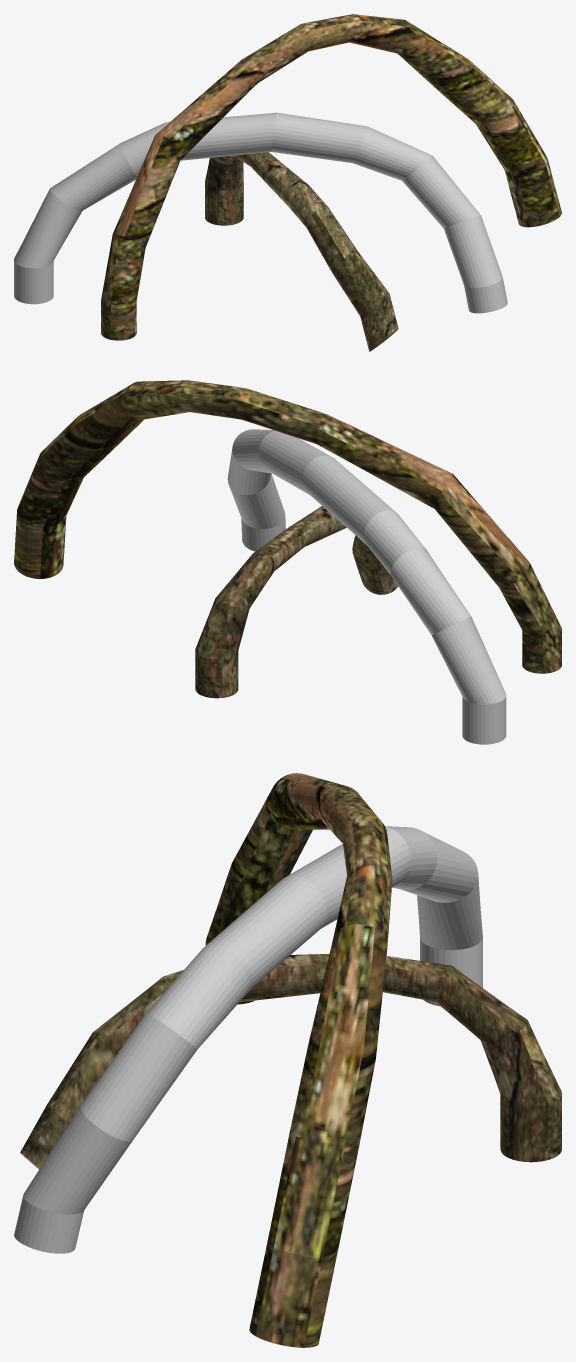
File: Roots.fbx
The picture shows the model from 3 angles, top to bottom: view 1: azimuth 30°, elevation 25°; view 2: azimuth 150°, elevation 25°; view 3: azimuth 270°, elevation 25°; orthographic projection. The views are drawn at different scales.
Visible parts, largest first — view 1: roots2, roots, root3; view 2: roots2, roots, root3; view 3: roots2, roots, root3.
Part boxes in pixels (<box>): roots2: <box>101,14,561,340</box>; roots: <box>14,112,507,313</box>; root3: <box>205,152,398,351</box>; roots2: <box>14,380,561,673</box>; roots: <box>227,429,506,744</box>; root3: <box>195,506,398,698</box>; roots2: <box>205,773,392,1347</box>; roots: <box>14,826,482,1253</box>; root3: <box>20,954,561,1169</box>.
Size of the model in its own units: 654 by 317 by 399.
